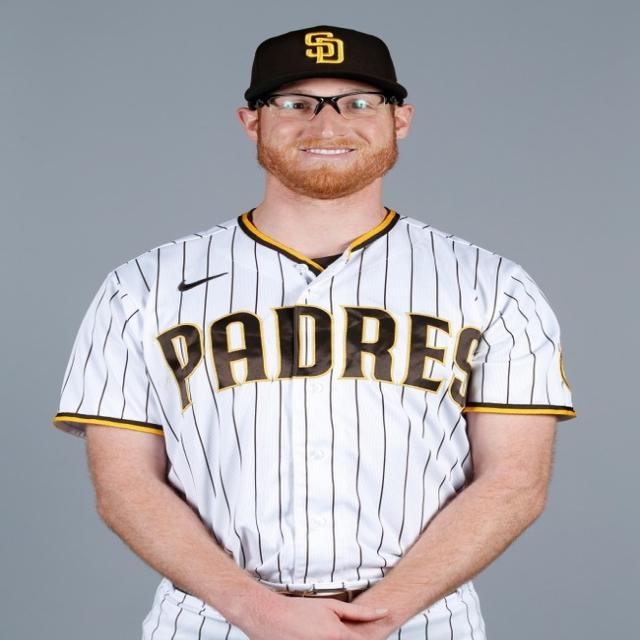Cap: (243, 25, 408, 102)
